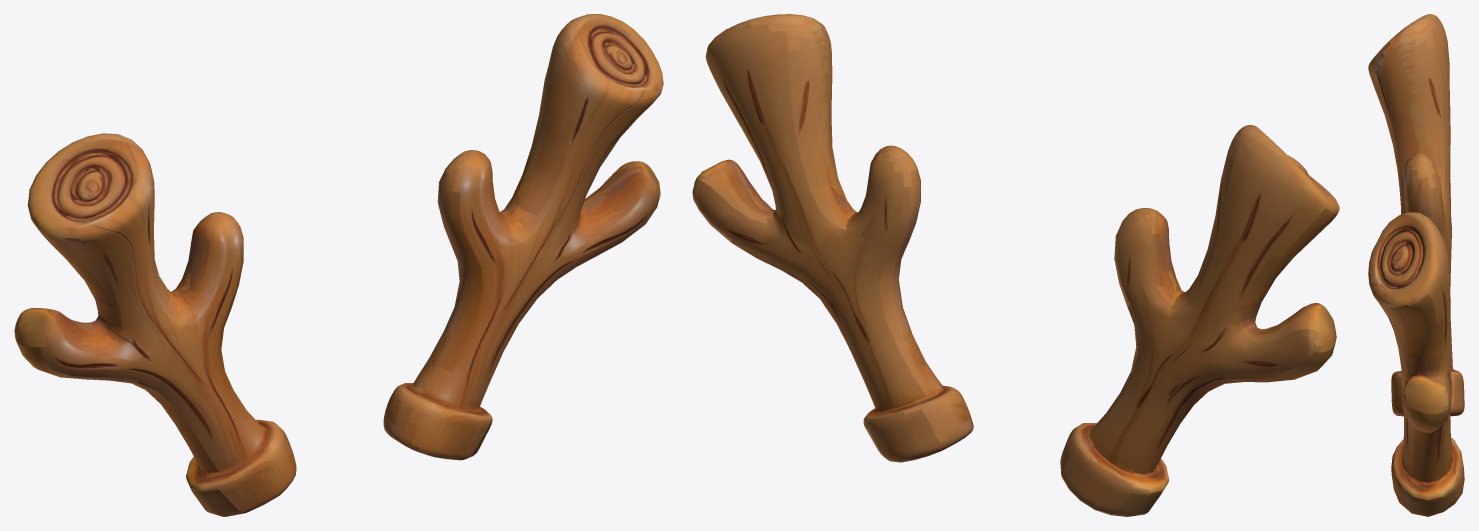
File: Antlers.glb
3 renders of one model, left to right at view 1: azimuth 30°, elevation 25°; view 2: azimuth 150°, elevation 25°; view 3: azimuth 270°, elevation 25°, orthographic. The views are drawn at different scales.
Visible parts, largest first — view 1: Antlers; view 2: Antlers; view 3: Antlers.
Boxes of the visible parts, box(x1,y1,x2,y2) form: Antlers: box(14, 14, 663, 516); Antlers: box(692, 14, 1339, 516); Antlers: box(1368, 14, 1464, 516).
Size of the model in its own units: 0.5477 by 0.336 by 0.0846.
1 material, 1 textured.
